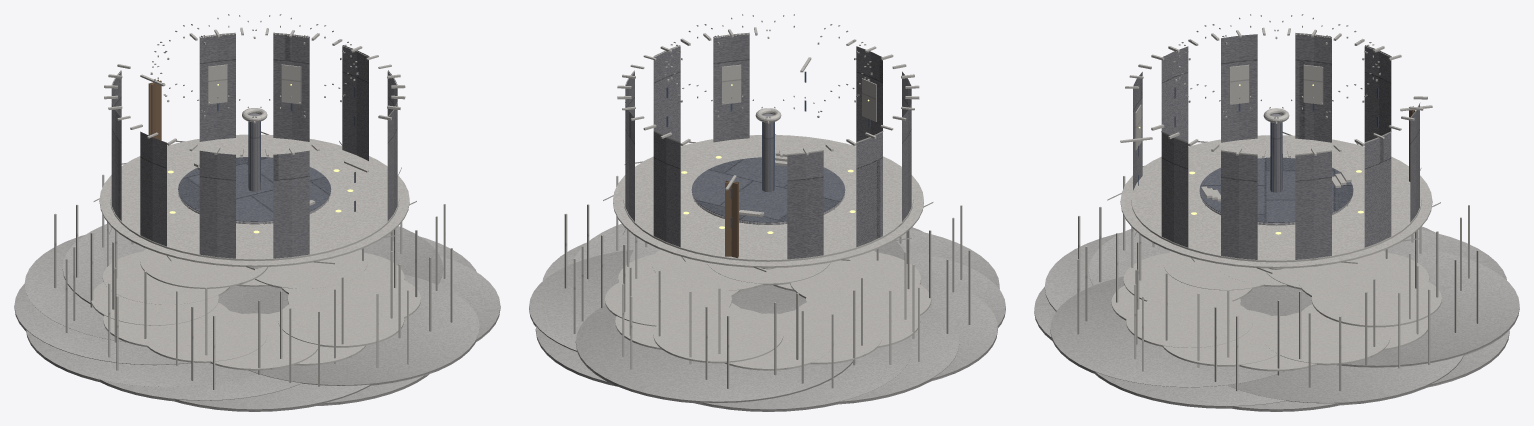
Rendered from test-iso-design-system_v1.glb.
The picture shows the model from 3 angles, left to right: view 1: azimuth 30°, elevation 25°; view 2: azimuth 150°, elevation 25°; view 3: azimuth 270°, elevation 25°; orthographic projection.
Parts seen in each view (by area): view 1: test-iso-design-system; view 2: test-iso-design-system; view 3: test-iso-design-system.
Boxes of the visible parts, x1,y1,x2,y2 form: test-iso-design-system: (14,14,500,411); test-iso-design-system: (529,14,1005,411); test-iso-design-system: (1034,14,1519,411).
Bounding box in the file's own units: 86.85 × 56.44 × 87.14.
Materials: 10 (6 with a texture image).
